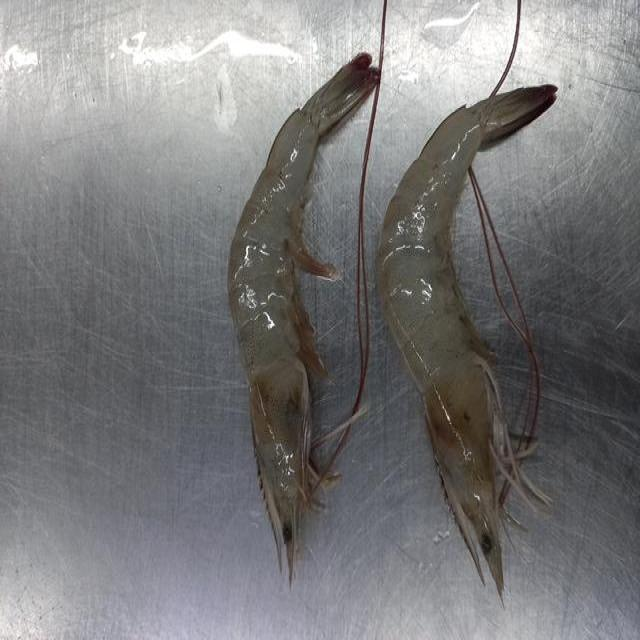shrimp: (378, 86, 556, 595), (229, 54, 379, 582)
